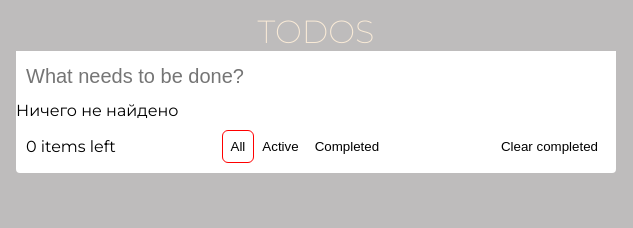
Todo App › should show no tasks found when filtering with no active tasks
In the field with placeholder "What needs to be done?": (316, 76) [16, 51, 616, 101], type "Completed task"
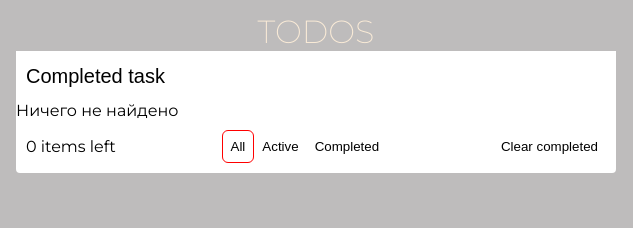
Press Enter in the field with placeholder "What needs to be done?", box [16, 51, 616, 101]
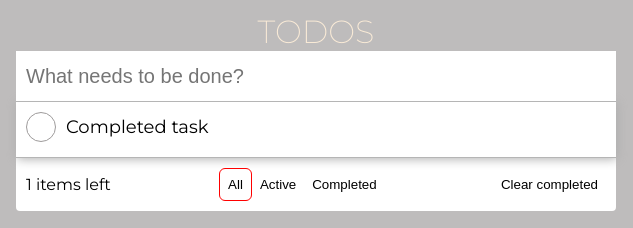
# Завершаем задачу
Click the checkbox: (117, 127) [26, 112, 208, 142]
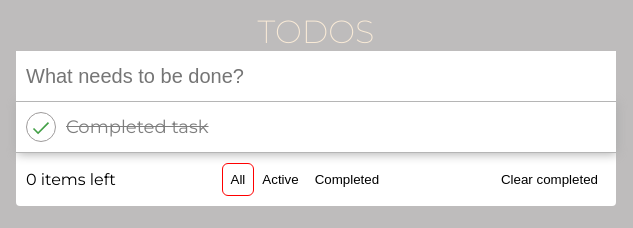
# Фильтруем только активные задачи, и должны увидеть "Ничего не найдено"
Click the button "Active": (280, 180) [254, 164, 307, 195]
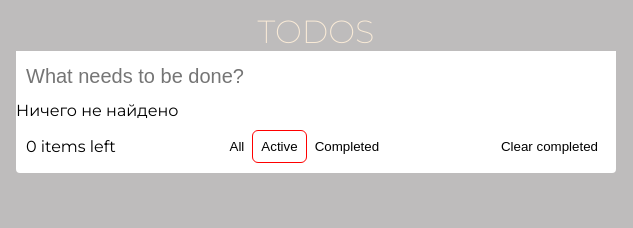
Expected: the text "Ничего не найдено" is shown, [16, 101, 178, 120]
